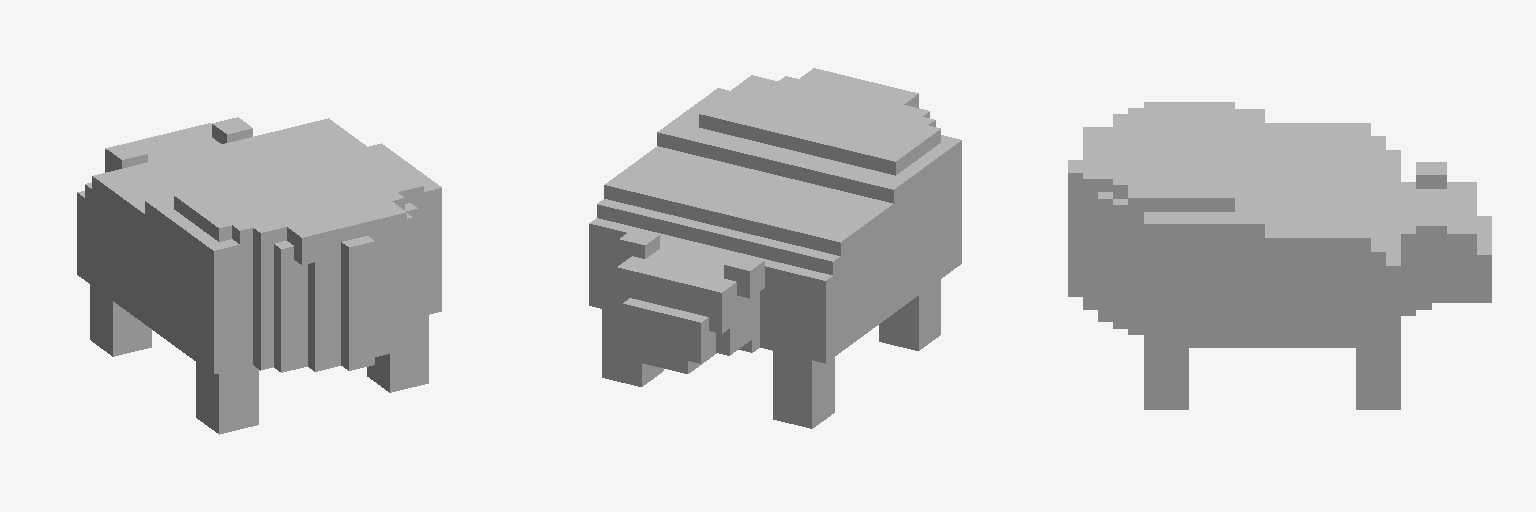
The model's file is oso polar.obj.
3 renders of one model, left to right at view 1: azimuth 30°, elevation 25°; view 2: azimuth 150°, elevation 25°; view 3: azimuth 270°, elevation 25°, orthographic.
Parts seen in each view (by area): view 1: object 1; view 2: object 1; view 3: object 1.
Boxes of the visible parts, x1,y1,x2,y2 form: object 1: [77, 117, 441, 434]; object 1: [589, 68, 961, 428]; object 1: [1068, 102, 1491, 409].
Bounding box in the file's own units: 1.8 × 1.5 × 2.8.